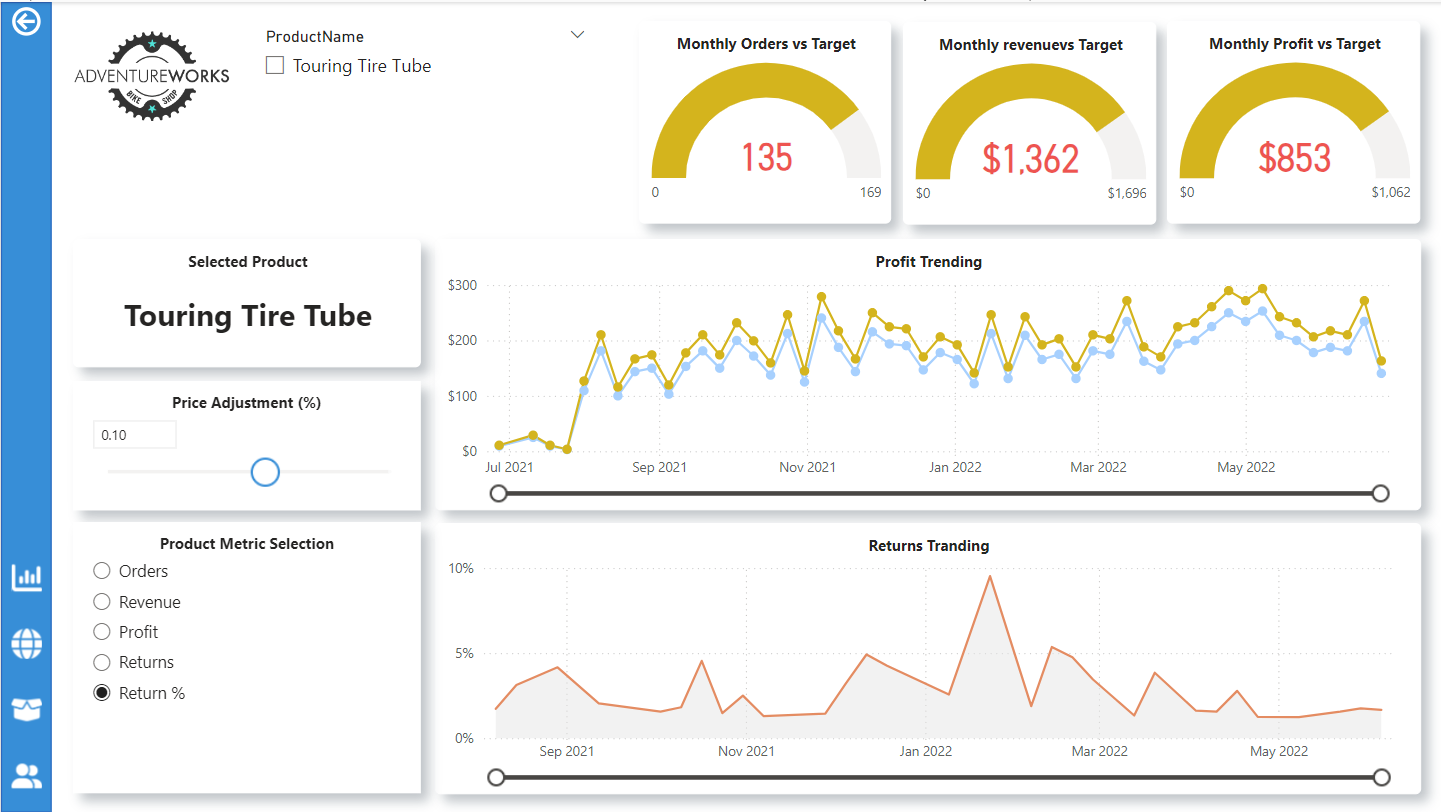

What the dashboard file says about the page in this screenshot:
{"tool":"powerbi","page":{"name":"Product Detail","canvas":[1280,720],"ordinal":2},"visuals":[{"type":"shape","box":[0,0,45,720],"z":0},{"type":"actionButton","box":[4.9,493.9,35.4,35.4],"z":0,"group":"g1"},{"type":"slicer","fields":{"Values":["ProductLookup.ProductName"]},"box":[222.1,17.9,308.8,113.6],"z":1000},{"type":"actionButton","box":[4.9,552.6,35.4,35.4],"z":1000,"group":"g1"},{"type":"image","title":"AW Logo","box":[45.2,0,177.7,131.3],"z":2000},{"type":"actionButton","box":[4.9,611.3,35.4,35.4],"z":2000,"group":"g1"},{"type":"gauge","title":"Monthly Orders vs Target","fields":{"Y":["Measure Table.Total Orders"],"MaxValue":["Measure Table.Order Target"]},"box":[566.7,16.7,224.3,180],"z":3000},{"type":"actionButton","box":[4.9,670,35.4,35.4],"z":3000,"group":"g1"},{"type":"gauge","title":"Monthly revenuevs Target","fields":{"MaxValue":["Measure Table.Revenue Target"],"Y":["Measure Table.Total Revenue"]},"box":[800.9,17.7,225.3,180],"z":4000},{"type":"gauge","title":"Monthly Profit vs Target","fields":{"MaxValue":["Measure Table.Profit Target"],"Y":["Measure Table.Total Profit"]},"box":[1036,16.7,225.3,180],"z":5000},{"type":"lineChart","title":"Profit Trending","fields":{"Category":["CalendarLookup.Date Hierarchy.Start of Year","CalendarLookup.Date Hierarchy.Start of Month","CalendarLookup.Date Hierarchy.Start of Week","CalendarLookup.Date Hierarchy.Date"],"Y":["Measure Table.Total Profit","Measure Table.Adjusted Profit"]},"box":[385.5,210.4,875.6,240.6],"z":6000},{"type":"areaChart","fields":{"Y":["Measure Table.Total Orders"],"Category":["CalendarLookup.Date Hierarchy.Start of Year","CalendarLookup.Date Hierarchy.Start of Month","CalendarLookup.Date Hierarchy.Start of Week","CalendarLookup.Date Hierarchy.Date"]},"box":[385.5,462.4,875.6,240.6],"z":7000},{"type":"card","title":"Selected Product","fields":{"Values":["Min(ProductLookup.ProductName)"]},"box":[63.8,210.6,308.8,113.6],"z":8000},{"type":"actionButton","box":[5.1,0,34.5,34.5],"z":9000},{"type":"group","id":"g1","title":"Nav Buttons","box":[4.9,493.9,35.4,211.5],"z":10000},{"type":"slicer","title":"Price Adjustment (%)","fields":{"Values":["Price Adjustment.Price Adjustment"]},"box":[63.8,336.9,308.8,114.9],"z":11000},{"type":"slicer","title":"Product Metric Selection","fields":{"Values":["Product Metric Selection.Product Metric Selection"]},"box":[63.8,462,308.8,241.2],"z":12000}]}

Visuals, with their boxes on the page's 1280x720 design canvas (x1, y1, x2, y2). These are canvas units, not pixel positions in the 1441x812 screenshot, which may show the page scaled, cropped or inside an application window:
shape: detection(0, 0, 45, 720)
actionButton: detection(5, 494, 40, 529)
slicer - ProductLookup.ProductName: detection(222, 18, 531, 132)
actionButton: detection(5, 553, 40, 588)
"AW Logo" image: detection(45, 0, 223, 131)
actionButton: detection(5, 611, 40, 647)
"Monthly Orders vs Target" gauge: detection(567, 17, 791, 197)
actionButton: detection(5, 670, 40, 705)
"Monthly revenuevs Target" gauge: detection(801, 18, 1026, 198)
"Monthly Profit vs Target" gauge: detection(1036, 17, 1261, 197)
"Profit Trending" lineChart: detection(386, 210, 1261, 451)
areaChart - Measure Table.Total Orders x CalendarLookup.Date Hierarchy.Start of Year: detection(386, 462, 1261, 703)
"Selected Product" card: detection(64, 211, 373, 324)
actionButton: detection(5, 0, 40, 34)
"Nav Buttons" group: detection(5, 494, 40, 705)
"Price Adjustment (%)" slicer: detection(64, 337, 373, 452)
"Product Metric Selection" slicer: detection(64, 462, 373, 703)
